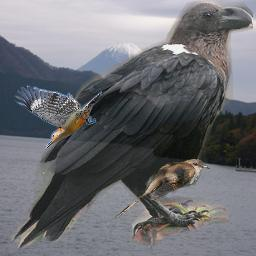Crow: (10, 1, 253, 249)
Cuckoo: (115, 158, 210, 219)
Woodpecker: (14, 85, 102, 150)
